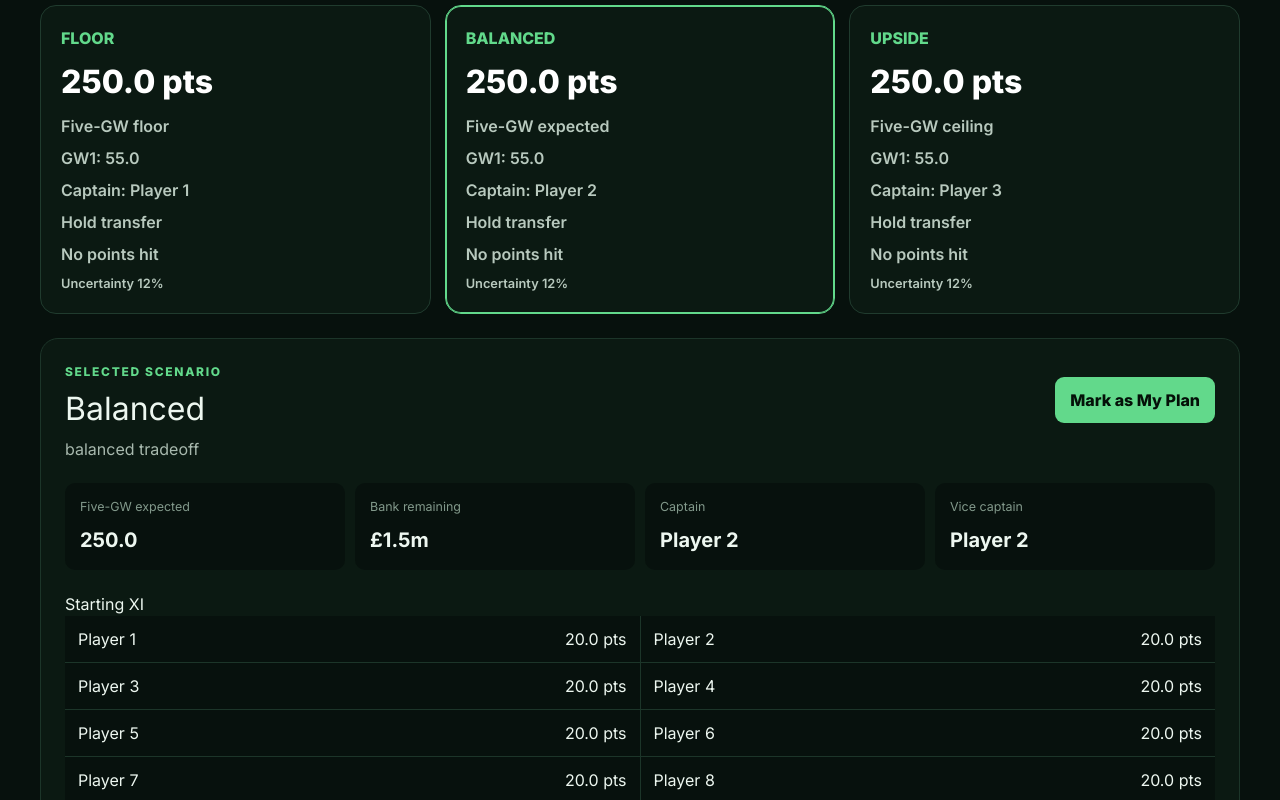
Test: PlanningWorkspace › stores an explicit My Plan snapshot
This screenshot has width=1280, height=800.
(page scrolled)
Click the button "Mark as My Plan": (1135, 400) [1055,377,1215,423]
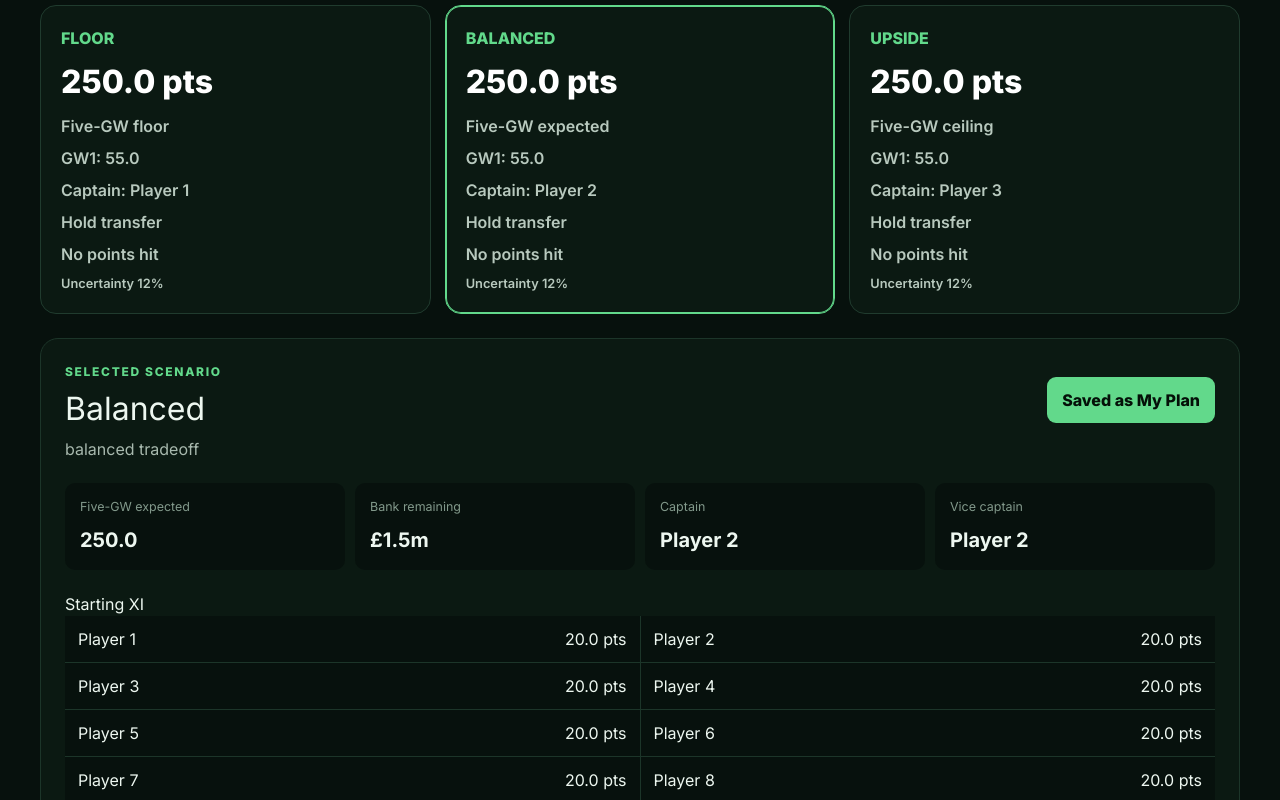
Expected: the button "Saved as My Plan" is shown, [1047,377,1215,423]
